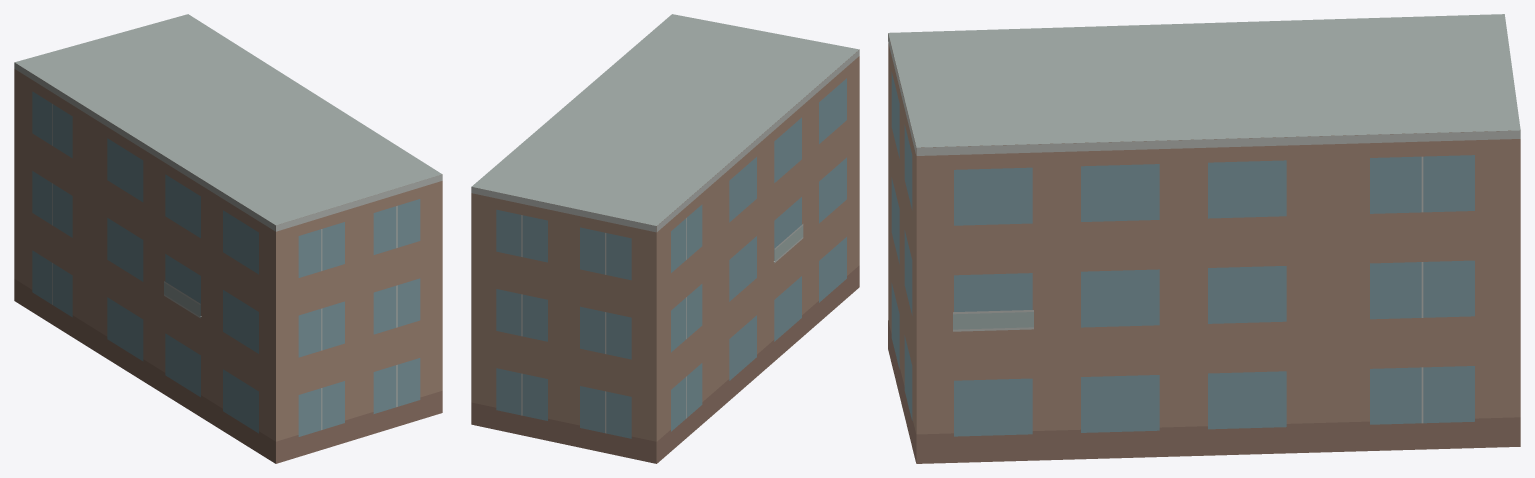
File: survey-upis-32680761.glb
3 renders of one model, left to right at view 1: azimuth 30°, elevation 25°; view 2: azimuth 150°, elevation 25°; view 3: azimuth 270°, elevation 25°, orthographic. The views are drawn at different scales.
Parts seen in each view (by area): view 1: survey-upis-32680761.tmp; view 2: survey-upis-32680761.tmp; view 3: survey-upis-32680761.tmp.
Boxes of the visible parts, bbox=[...] form: survey-upis-32680761.tmp: bbox=[14, 14, 442, 463]; survey-upis-32680761.tmp: bbox=[471, 14, 859, 463]; survey-upis-32680761.tmp: bbox=[888, 14, 1520, 463].
Bounding box in the file's own units: 8.25 × 9.1 × 16.5.
